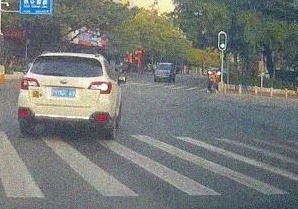L_light: (20, 77, 40, 90)
R_light: (87, 81, 112, 94)
T_light: (61, 56, 73, 60)
day-right: (17, 52, 115, 139)
